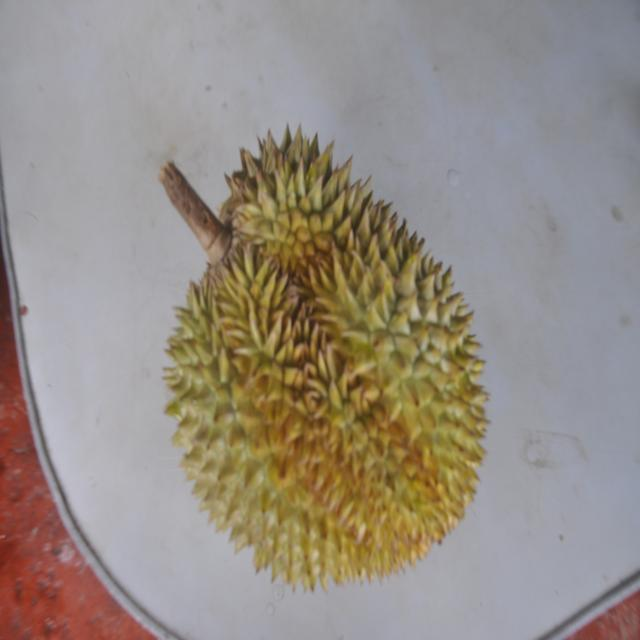mature: (157, 120, 485, 589)
